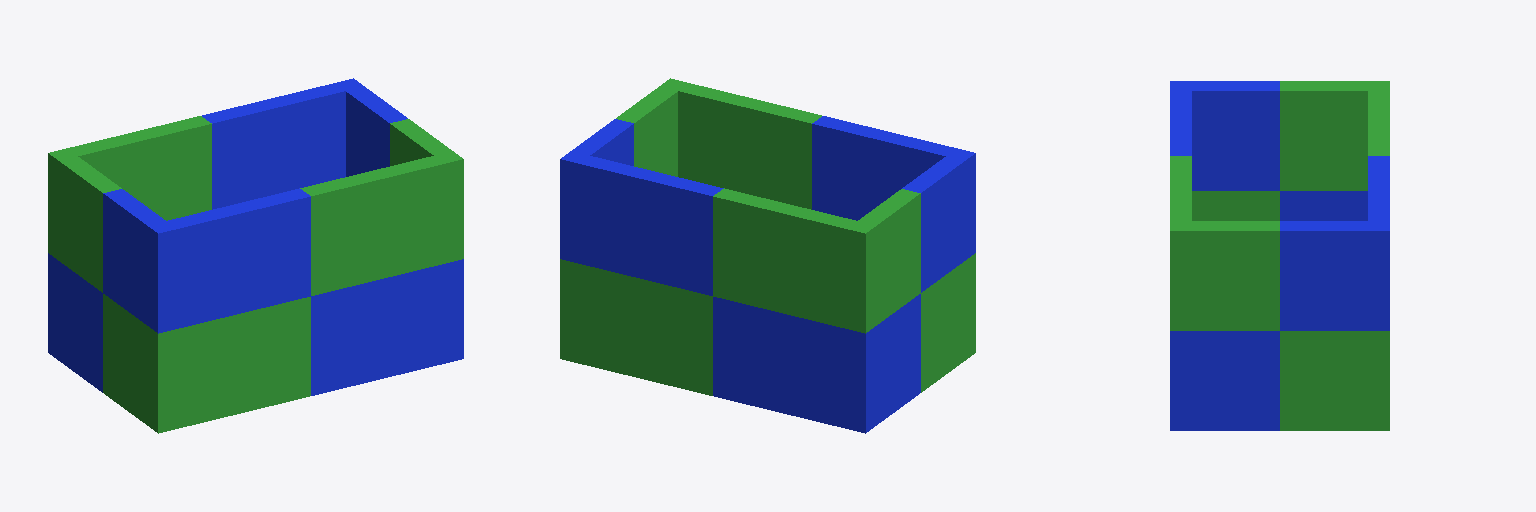
The model's file is Combined_TrashCan_S0.0001.obj.
The picture shows the model from 3 angles: view 1: azimuth 30°, elevation 25°; view 2: azimuth 150°, elevation 25°; view 3: azimuth 270°, elevation 25°; orthographic projection.
Visible parts, largest first — view 1: obj_0.001; view 2: obj_0.001; view 3: obj_0.001.
Part boxes in pixels (x1,y1,x2,y2): obj_0.001: (48,78,463,433); obj_0.001: (560,78,975,433); obj_0.001: (1170,81,1389,430).
Bounding box in the file's own units: 0.8 × 0.5 × 0.5.